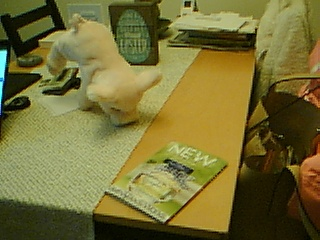piggy: (45, 12, 164, 128)
